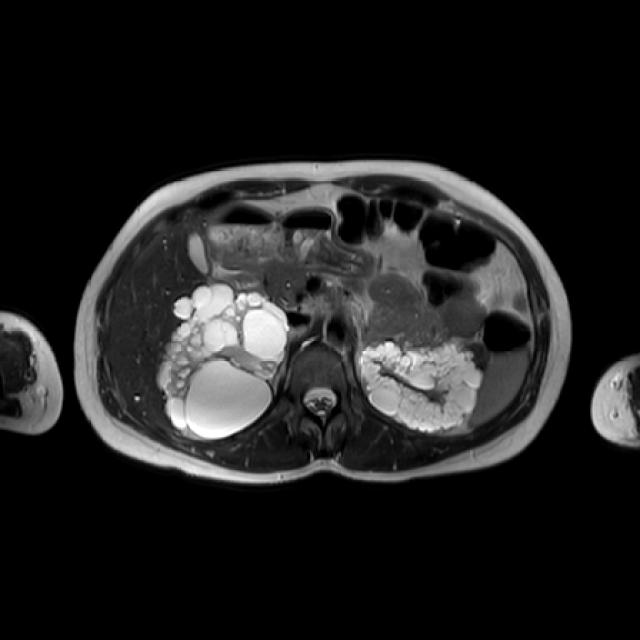sag: (158, 284, 286, 436)
sol: (359, 341, 482, 430)
